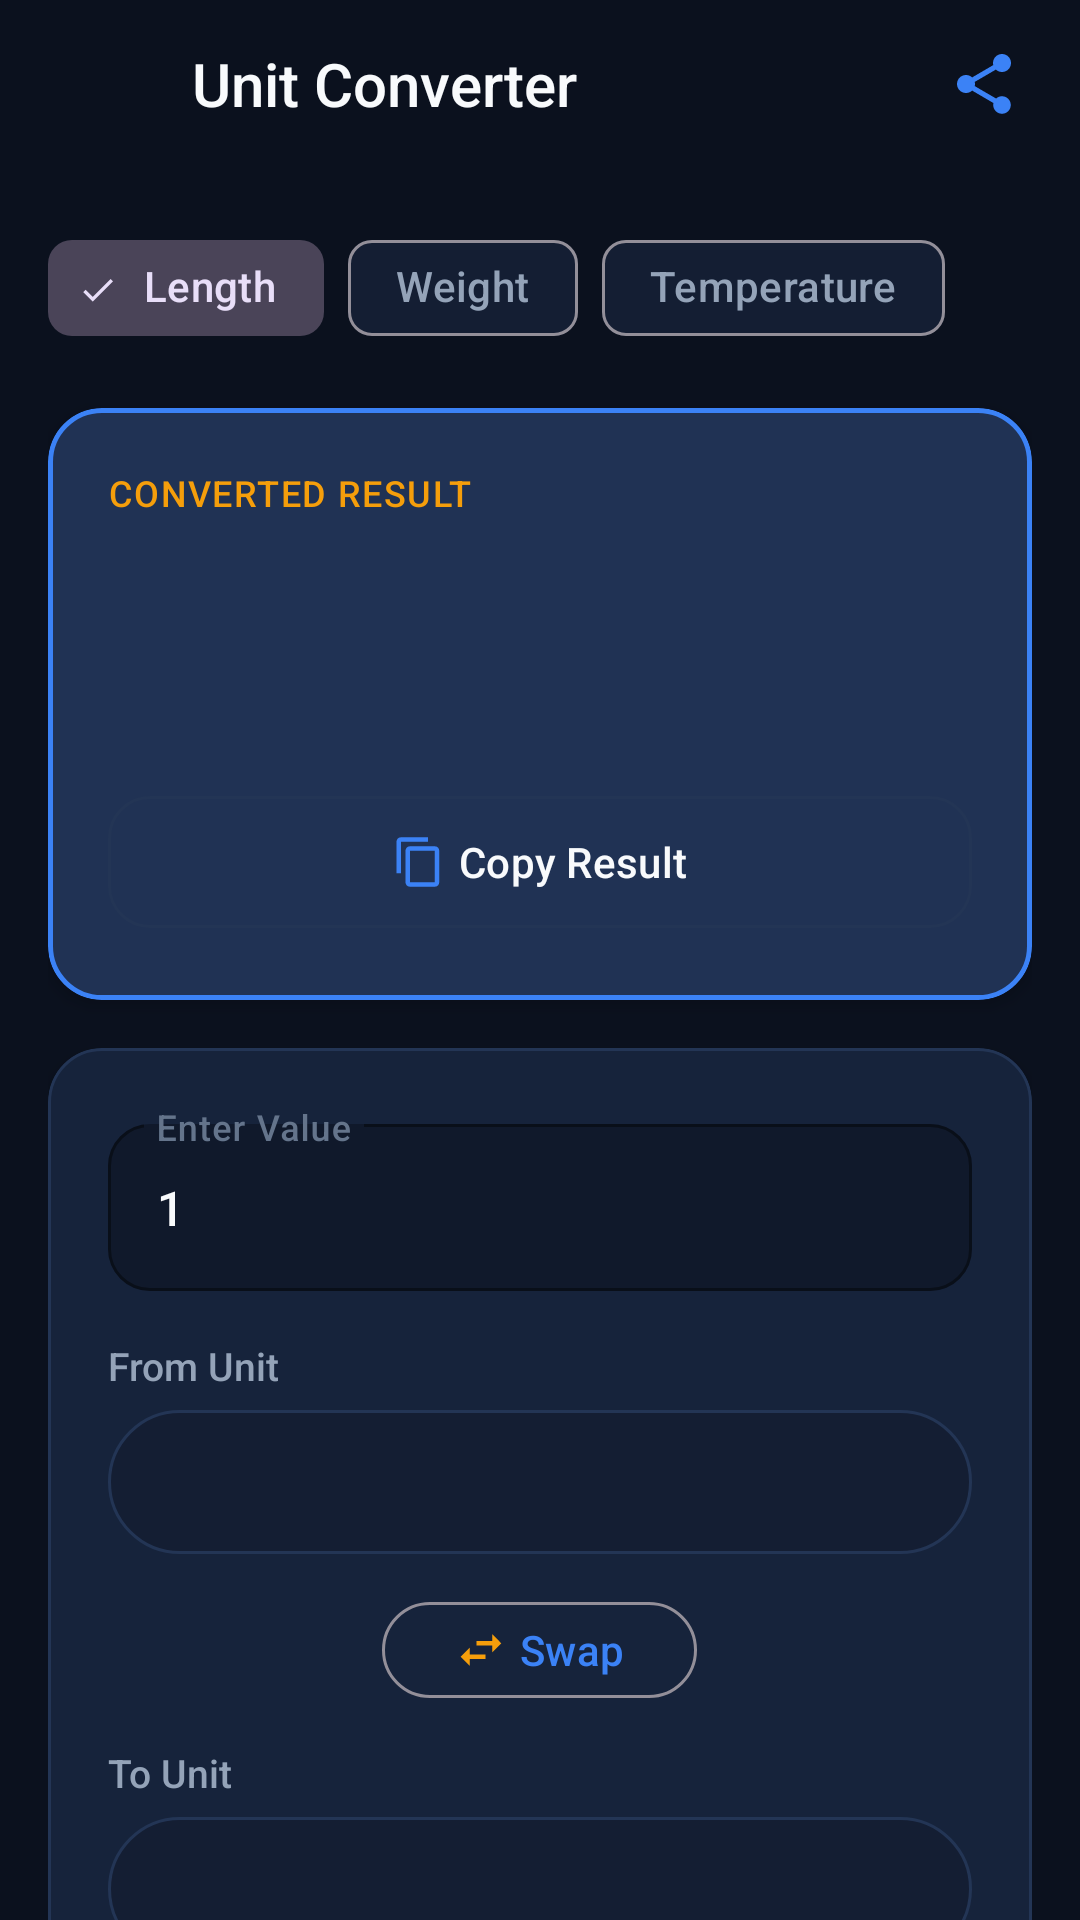

Icons on this 1080 × 1920 Android screen, each with the point to tap as [x,y]:
Share: [984,84]
